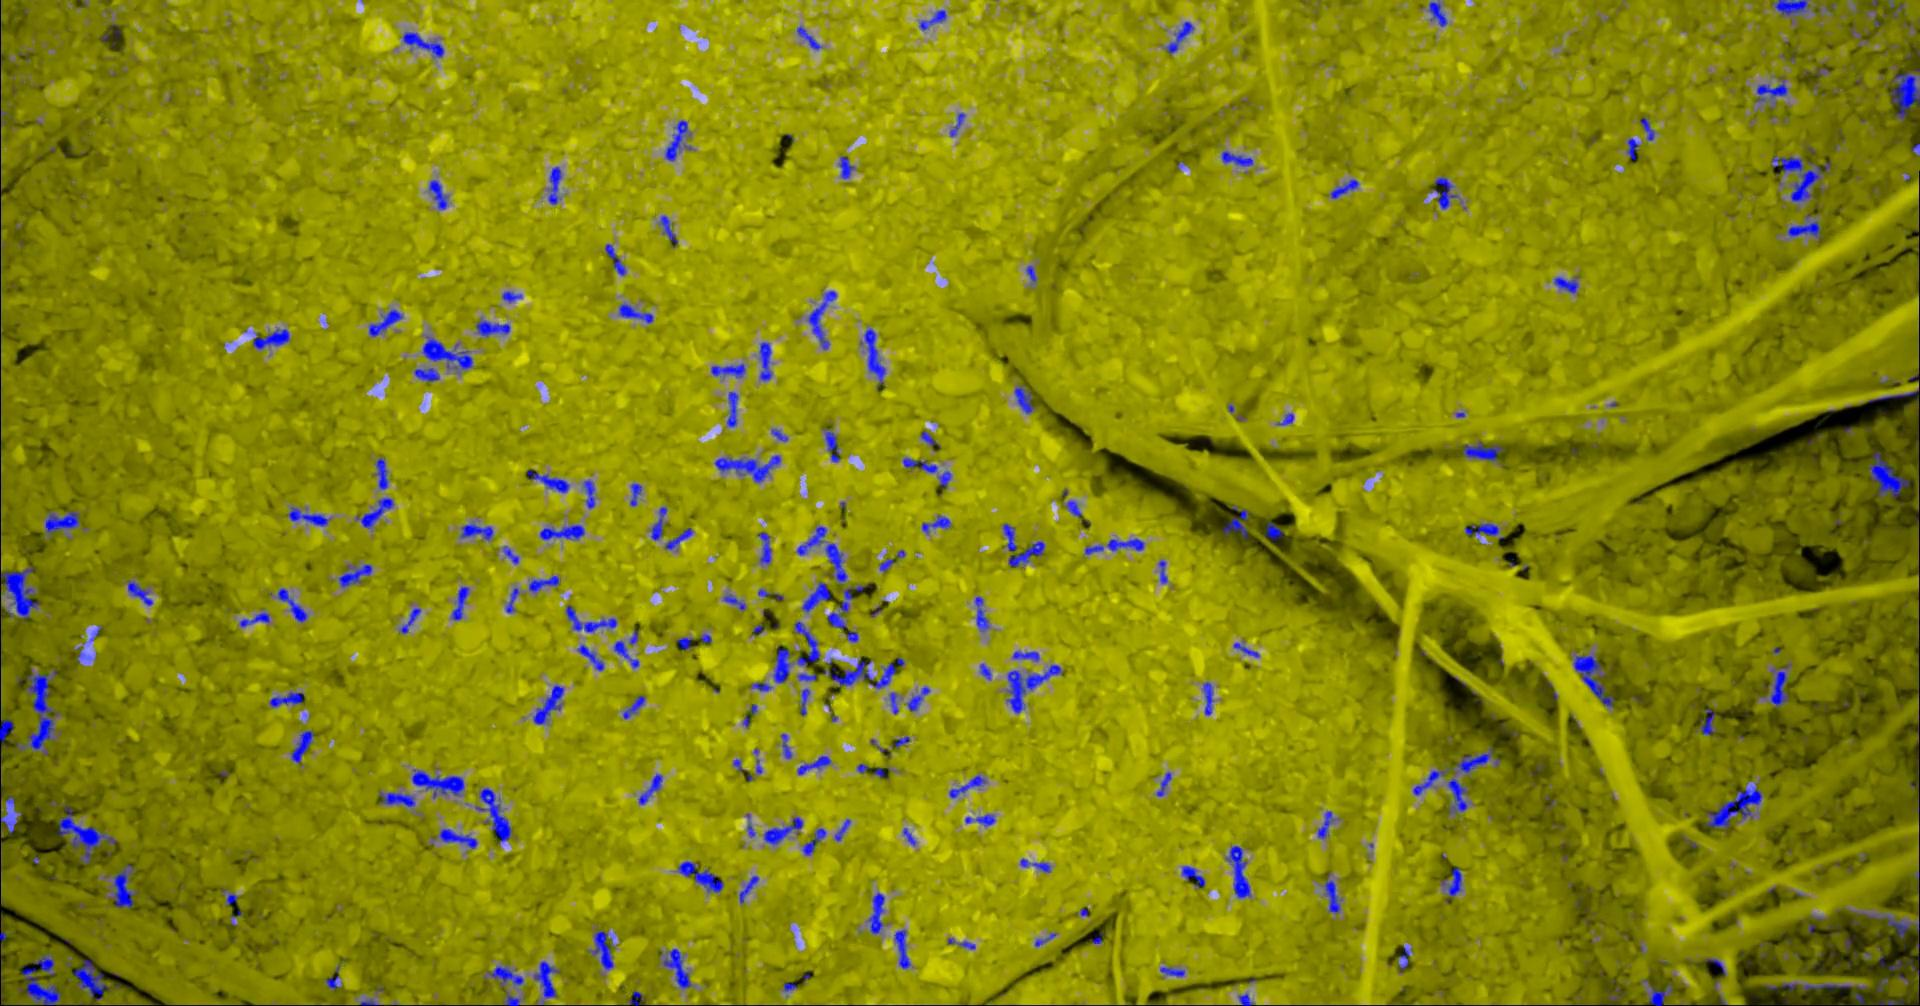ant: (57, 803, 116, 862), (1857, 912, 1919, 960), (1771, 155, 1831, 201), (1006, 664, 1062, 713), (1705, 782, 1761, 828), (824, 657, 904, 688), (825, 583, 869, 641), (18, 951, 60, 1005), (0, 565, 39, 621), (1573, 654, 1613, 706), (475, 788, 510, 843), (1867, 451, 1910, 497), (714, 453, 780, 481), (1002, 523, 1044, 567), (422, 337, 472, 372), (806, 290, 836, 349), (72, 959, 112, 1000), (1890, 69, 1919, 121), (411, 768, 463, 798), (860, 326, 885, 384), (677, 860, 723, 892), (1801, 983, 1867, 1005), (565, 605, 616, 633), (1225, 845, 1250, 898), (1761, 663, 1789, 708), (532, 683, 563, 724), (662, 948, 691, 988), (794, 621, 820, 666), (356, 497, 392, 528), (112, 864, 137, 908), (763, 815, 803, 843), (403, 30, 443, 57), (664, 119, 691, 160), (277, 587, 307, 622), (587, 930, 613, 969), (1412, 767, 1449, 795), (1455, 746, 1492, 772), (368, 309, 403, 337), (533, 962, 559, 998), (526, 470, 569, 492), (824, 542, 847, 583), (1084, 539, 1144, 554), (801, 580, 830, 611), (1164, 22, 1192, 53), (1222, 506, 1248, 539), (1867, 389, 1919, 405), (796, 526, 825, 555), (949, 774, 985, 796), (1787, 213, 1820, 239), (1432, 175, 1457, 210), (44, 511, 79, 535), (1462, 441, 1502, 461), (251, 328, 290, 349), (1755, 76, 1787, 102), (287, 506, 329, 525), (338, 563, 371, 587), (439, 828, 477, 848), (1440, 868, 1462, 903), (290, 730, 312, 763), (893, 929, 912, 968), (486, 965, 523, 986), (637, 774, 662, 804), (618, 302, 653, 323), (577, 644, 603, 669), (613, 640, 637, 668), (604, 243, 625, 276), (1323, 873, 1340, 913), (450, 586, 469, 620), (1448, 779, 1467, 813), (538, 525, 584, 539), (869, 892, 884, 934), (797, 754, 830, 774), (796, 25, 822, 50), (127, 580, 152, 605), (905, 686, 930, 711), (803, 828, 825, 855), (773, 645, 790, 682), (918, 9, 946, 30), (664, 527, 692, 549), (1909, 757, 1919, 815), (475, 320, 510, 337), (428, 179, 447, 210), (1644, 983, 1671, 1005), (738, 875, 758, 903), (823, 428, 839, 462), (659, 215, 677, 246), (921, 514, 950, 533), (399, 607, 420, 633), (1773, 0, 1808, 15), (902, 457, 937, 473), (974, 596, 989, 631), (378, 791, 414, 807), (547, 166, 561, 205), (1330, 179, 1357, 198), (1015, 385, 1034, 413), (650, 506, 665, 540), (458, 523, 493, 539), (269, 692, 303, 708), (622, 695, 645, 718), (1181, 865, 1204, 888), (1222, 150, 1252, 166), (756, 531, 771, 564), (710, 363, 745, 377), (1317, 810, 1335, 838), (1429, 0, 1448, 25), (1018, 857, 1050, 873), (528, 575, 559, 591), (1699, 708, 1716, 735), (1553, 276, 1578, 293), (759, 340, 771, 380), (0, 807, 17, 833), (239, 612, 269, 626), (726, 391, 738, 427), (325, 963, 340, 989), (375, 457, 387, 489), (964, 813, 996, 826), (1464, 523, 1498, 535), (1233, 641, 1258, 657), (1156, 771, 1171, 796), (723, 593, 745, 610), (413, 367, 439, 381), (0, 714, 13, 743), (949, 112, 964, 136), (1639, 116, 1655, 140), (1263, 521, 1283, 540), (838, 156, 855, 178), (582, 480, 594, 508), (505, 587, 519, 612), (834, 818, 850, 840), (1625, 137, 1639, 160), (947, 937, 975, 949), (502, 545, 518, 564), (1398, 945, 1410, 972), (1203, 682, 1211, 715), (629, 483, 641, 506), (780, 733, 791, 758), (1034, 934, 1055, 946), (1887, 0, 1903, 17), (799, 688, 809, 715), (627, 989, 645, 1005), (504, 989, 521, 1005), (676, 636, 693, 650), (902, 827, 916, 845), (1012, 652, 1039, 661), (1065, 500, 1081, 516), (1276, 412, 1293, 426), (919, 431, 936, 445), (938, 470, 951, 488), (502, 291, 521, 302), (1158, 559, 1167, 583), (1159, 967, 1183, 976), (771, 428, 787, 441), (1025, 265, 1036, 283), (891, 735, 909, 747), (879, 558, 893, 572), (979, 663, 990, 680), (1609, 987, 1625, 998), (889, 692, 898, 713), (1877, 998, 1903, 1005), (225, 892, 237, 904), (1238, 993, 1252, 1005), (750, 682, 771, 690), (797, 673, 817, 681)
